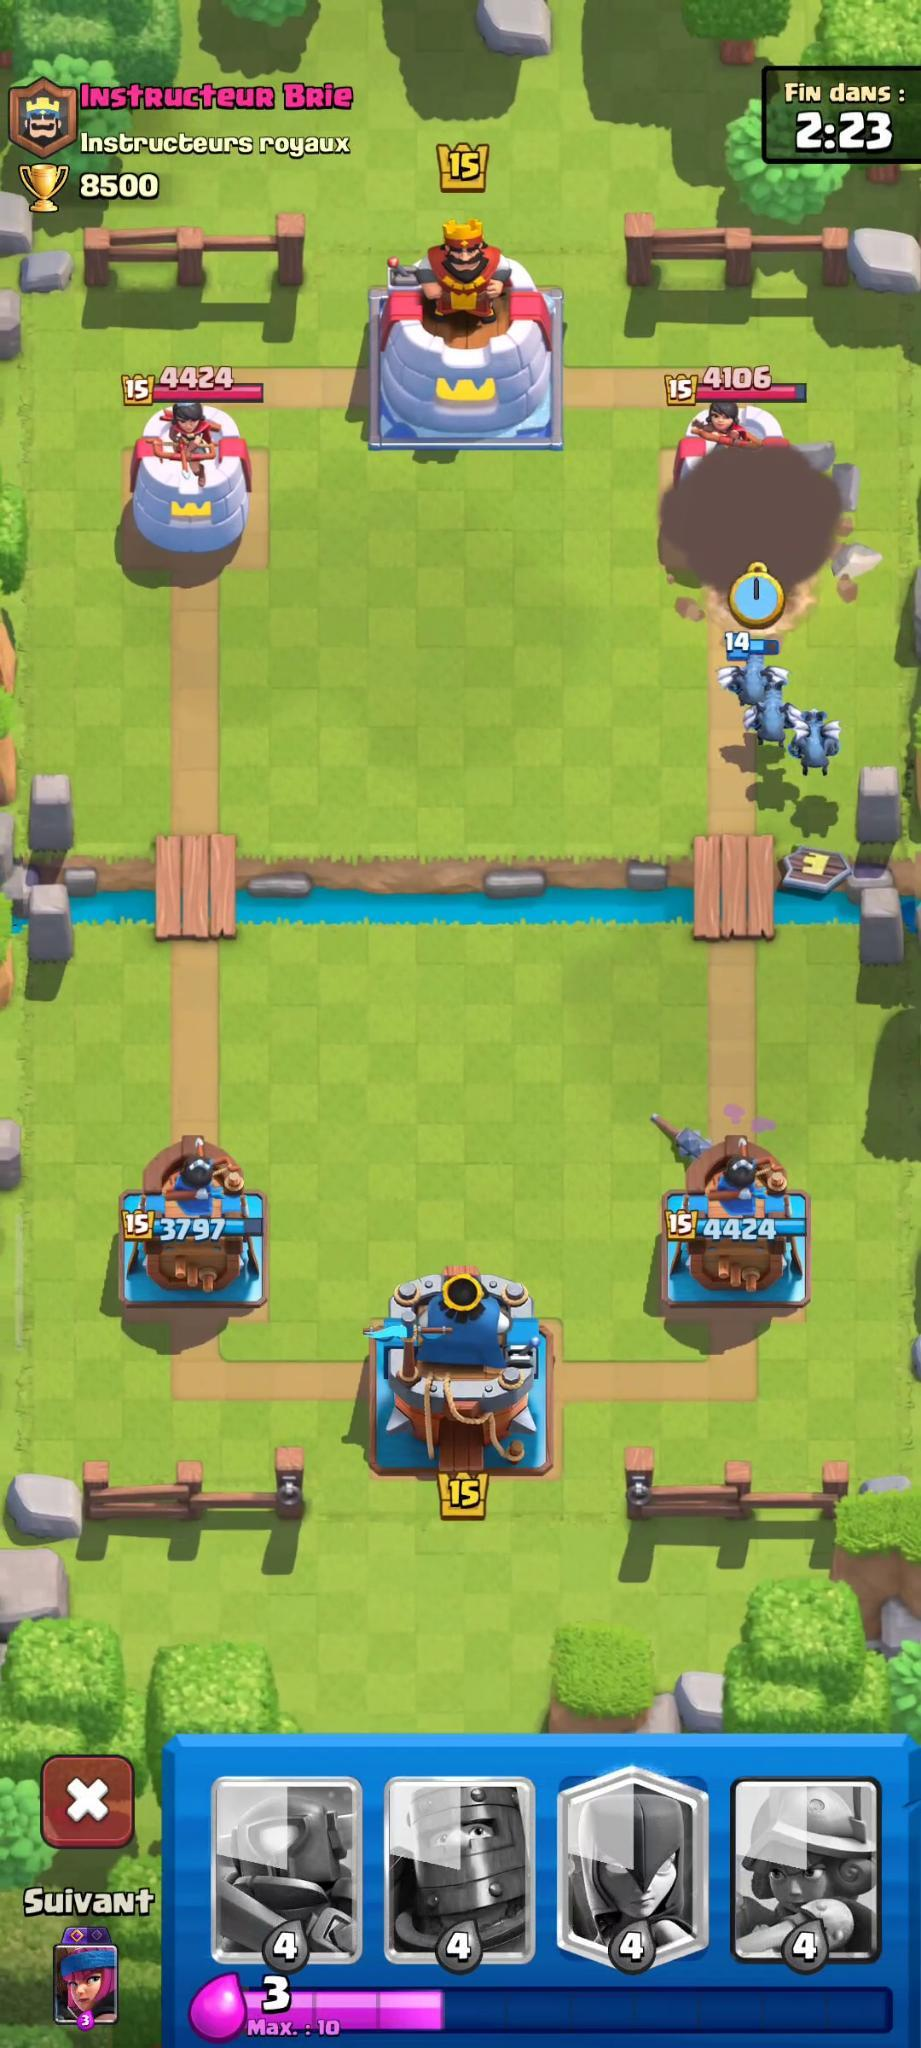player_minions: (718, 626, 790, 707), (779, 704, 847, 781)
